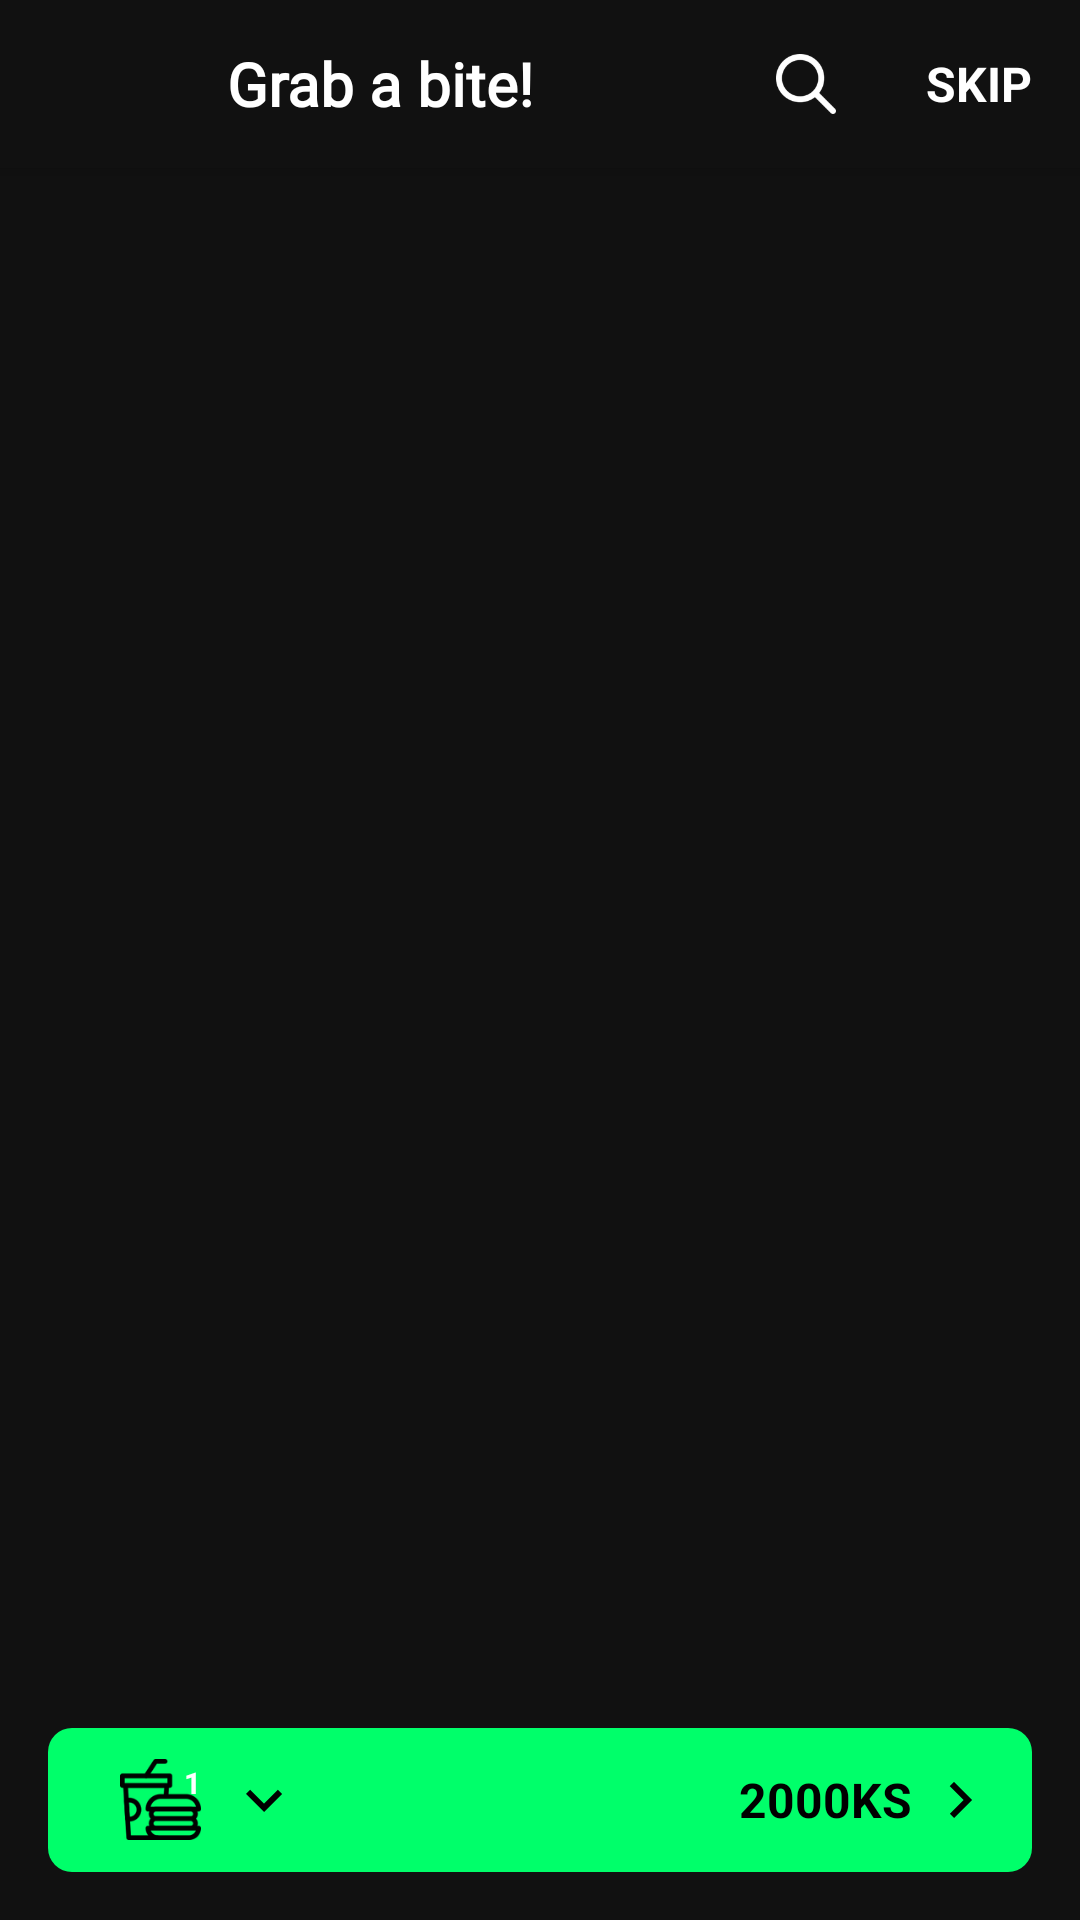

Locate icon controls on the screen. Image size 1080px x 1920px, boxes as (x1, y1, x2, y2).
arrow down: (246, 1790, 282, 1812)
arrow right: (950, 1782, 972, 1818)
fast food: (120, 1759, 201, 1840)
search: (776, 54, 836, 114)
